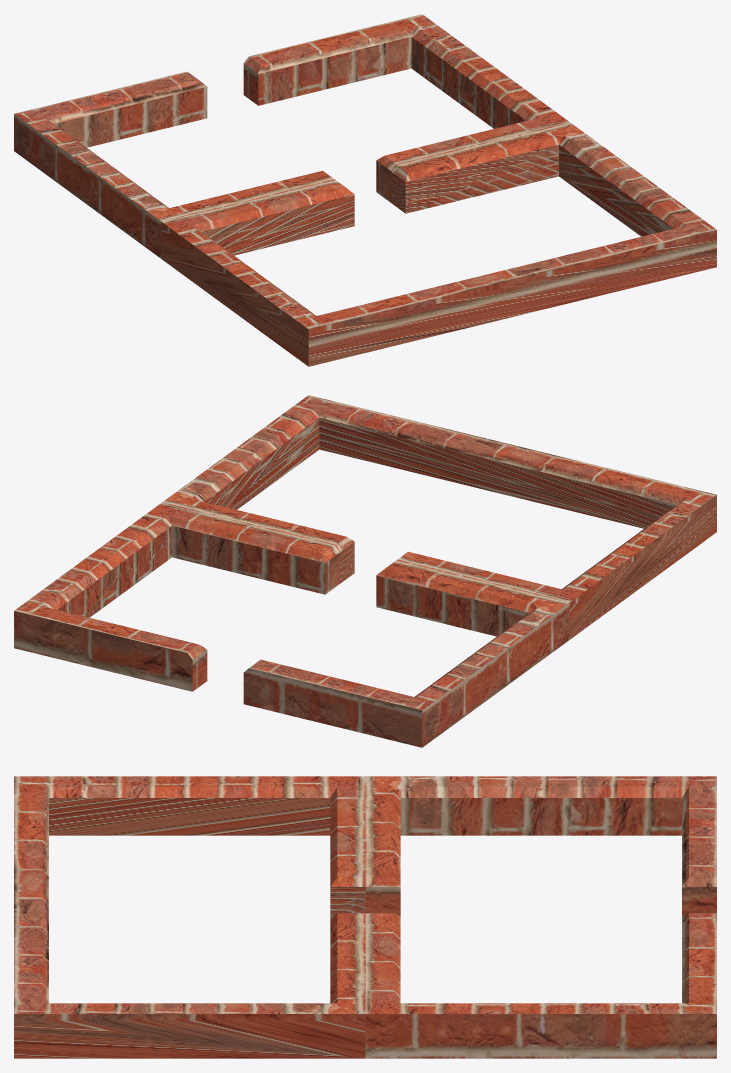
File: roomWalls.fbx
3 views of the same model, one above another, from view 1: azimuth 30°, elevation 25°; view 2: azimuth 150°, elevation 25°; view 3: azimuth 270°, elevation 25° (orthographic). The views are drawn at different scales.
Visible parts, largest first — view 1: Room36MeshWall, Room33MeshWall; view 2: Room33MeshWall, Room36MeshWall; view 3: Room36MeshWall, Room33MeshWall.
Part boxes in pixels (left/top/right/bottom): Room36MeshWall: left=161, top=122, right=716, bottom=366; Room33MeshWall: left=14, top=14, right=568, bottom=258; Room33MeshWall: left=14, top=503, right=569, bottom=747; Room36MeshWall: left=162, top=395, right=716, bottom=639; Room36MeshWall: left=14, top=776, right=365, bottom=1058; Room33MeshWall: left=365, top=776, right=716, bottom=1058.
Size of what is drawn, in the model's own units: 80 by 7 by 100.
